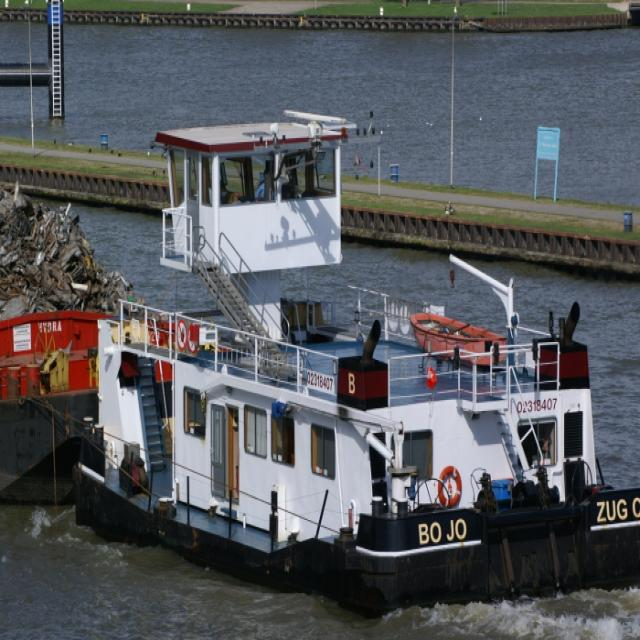tugboat: (66, 104, 640, 630)
